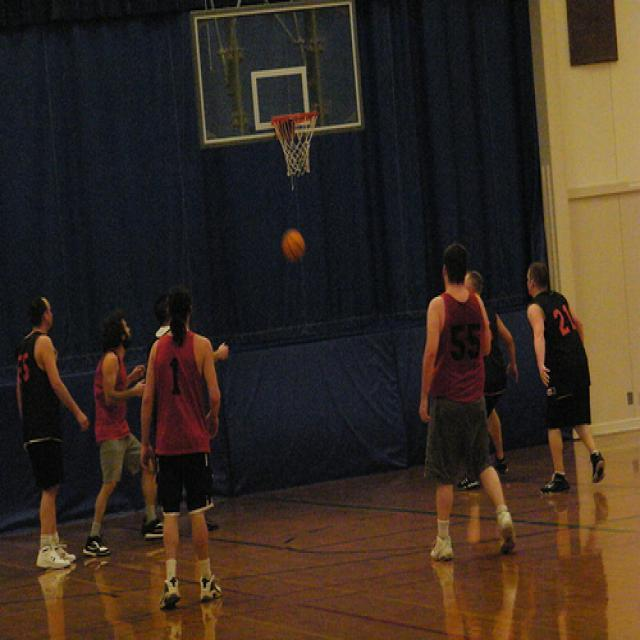basketball: (281, 229, 305, 261)
